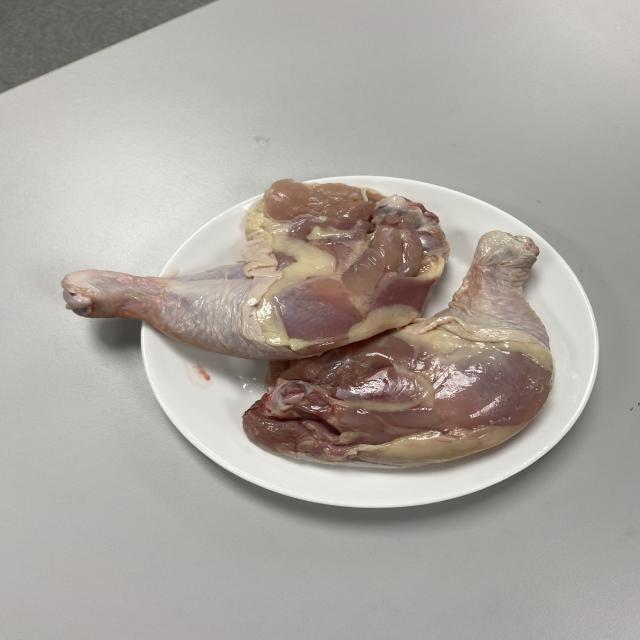quater: (65, 170, 432, 344), (260, 252, 555, 462)
